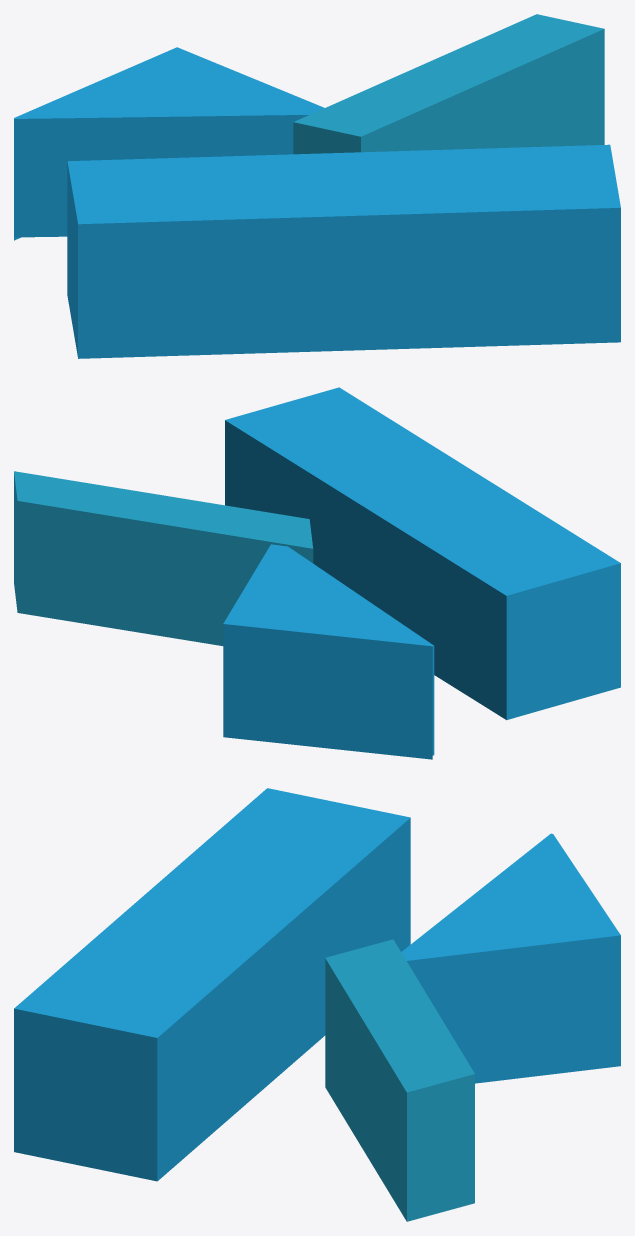
The model's file is Rune2NoStone.fbx.
3 views of the same model, one above another, from view 1: azimuth 30°, elevation 25°; view 2: azimuth 150°, elevation 25°; view 3: azimuth 270°, elevation 25° (orthographic). The views are drawn at different scales.
Visible parts, largest first — view 1: Cube.001, Cube.002, Cube; view 2: Cube.001, Cube.002, Cube; view 3: Cube.001, Cube, Cube.002.
Boxes of the visible parts, box(x1,y1,x2,y2) form: Cube.001: box(67, 144, 620, 358); Cube.002: box(293, 14, 604, 154); Cube: box(14, 47, 324, 240); Cube.001: box(225, 387, 620, 720); Cube.002: box(14, 471, 313, 645); Cube: box(223, 544, 434, 759); Cube.001: box(14, 788, 410, 1181); Cube: box(401, 833, 620, 1083); Cube.002: box(325, 939, 474, 1221).
Size of the model in its own units: 180 by 40.03 by 150.
